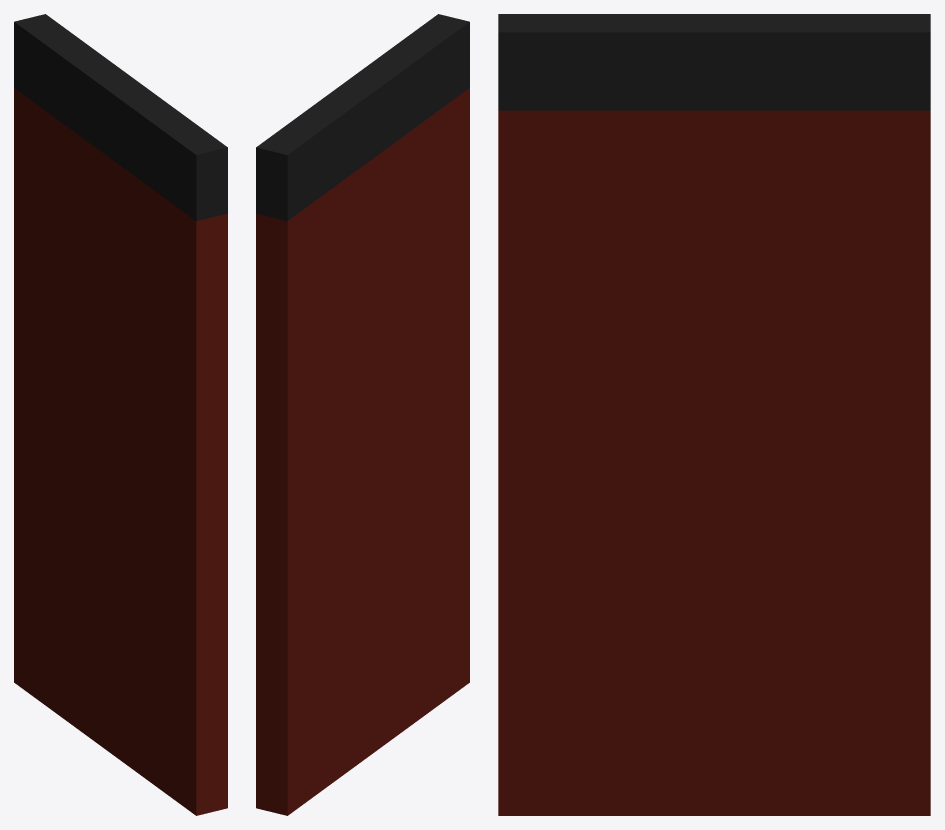
File: SM_Build_Wand_Rot.fbx
The picture shows the model from 3 angles, left to right: view 1: azimuth 30°, elevation 25°; view 2: azimuth 150°, elevation 25°; view 3: azimuth 270°, elevation 25°; orthographic projection. The views are drawn at different scales.
Visible parts, largest first — view 1: Wand Rot; view 2: Wand Rot; view 3: Wand Rot.
Boxes of the visible parts, x1,y1,x2,y2 form: Wand Rot: [14, 14, 227, 815]; Wand Rot: [256, 14, 469, 815]; Wand Rot: [498, 14, 930, 815].
Bounding box in the file's own units: 0.2 × 4 × 2.
